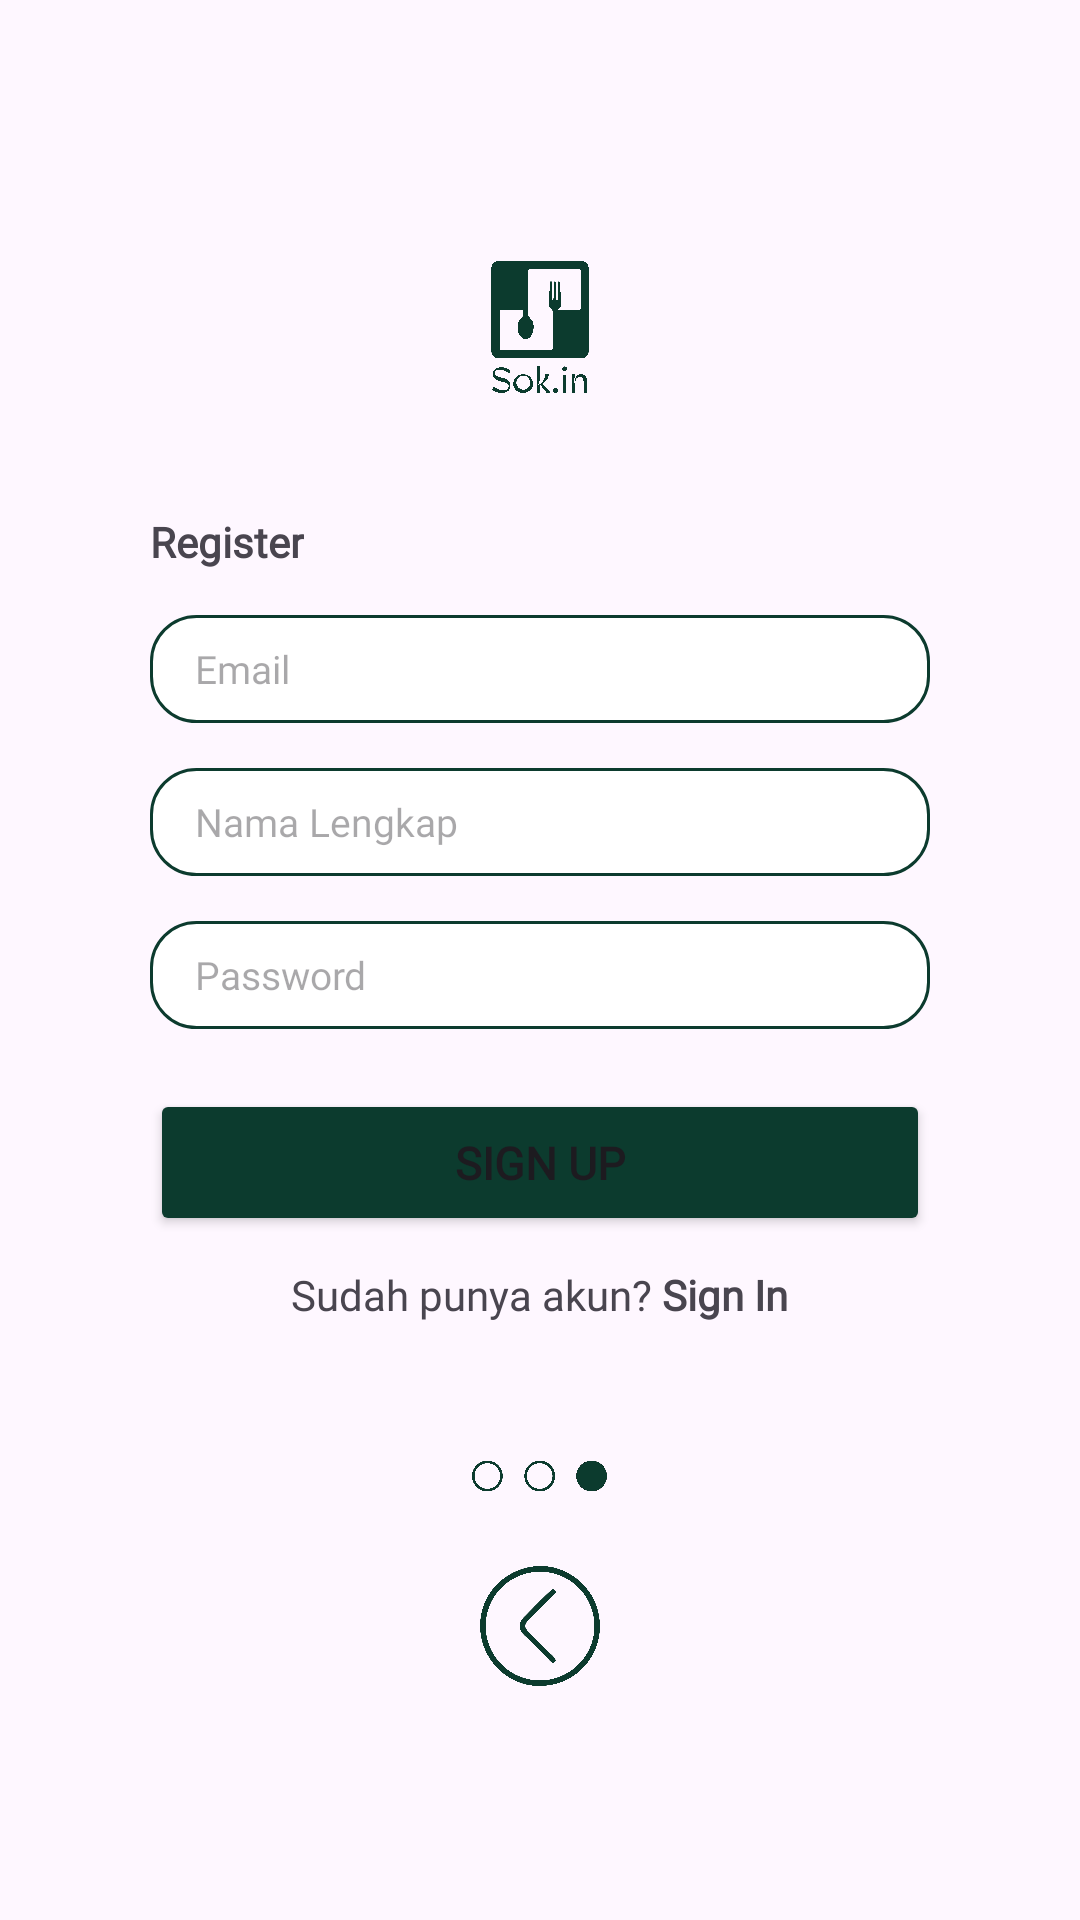

Named icons in this screenshot (1080x1920) and their bounding boxes, (x1, y1, x2, y2):
kembali: (480, 1566, 600, 1686)
slide: (472, 1461, 607, 1491)
